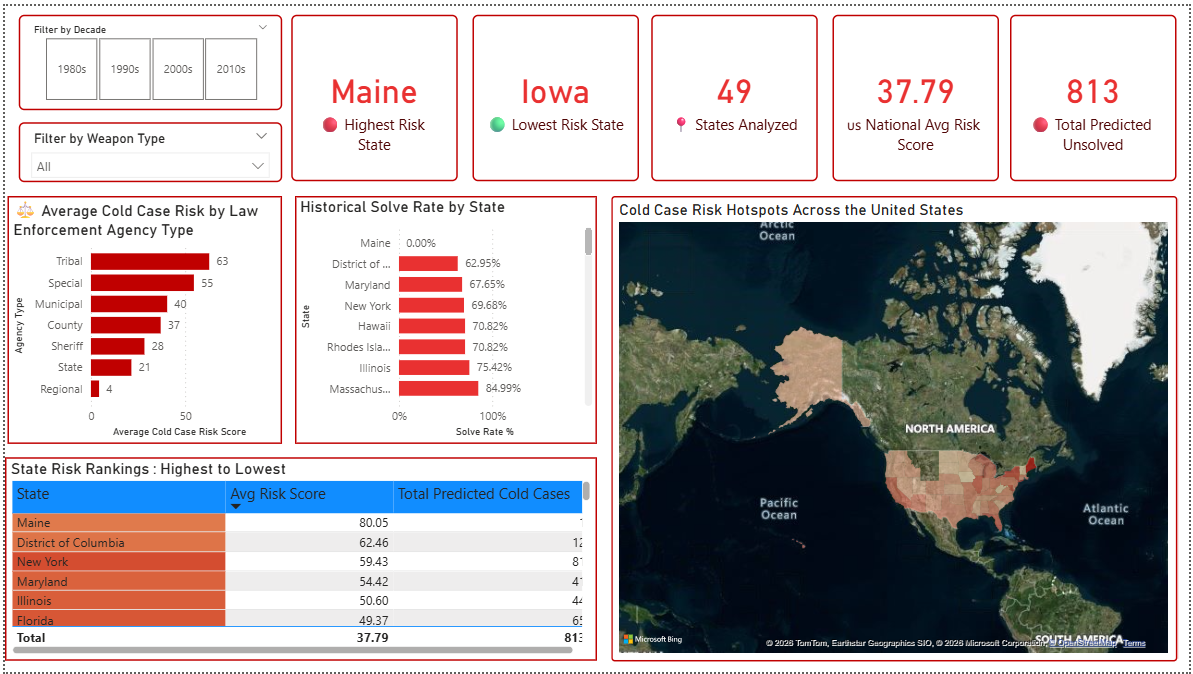

Layout of this report page (visuals, bound fields, positions):
{"tool":"powerbi","page":{"name":"Geographic Intelligence (Hotspots)","canvas":[1280,720],"ordinal":2},"visuals":[{"type":"filledMap","fields":{"Category":["final_portfolio_export.State"]},"box":[655,205,611.7,503.3],"z":0},{"type":"clusteredBarChart","title":"⚖️ Average Cold Case Risk by Law Enforcement Agency Type","fields":{"Category":["final_portfolio_export.Agency Grouped"],"Y":["Avg(final_portfolio_export.Cold_Case_Risk_Score)"]},"box":[3.3,205,296.7,268.3],"z":1000},{"type":"tableEx","title":"State Risk Rankings : Highest to Lowest","fields":{"Values":["final_portfolio_export.State","Avg(final_portfolio_export.Cold_Case_Risk_Score)","final_portfolio_export.Predicted Cold Cases"]},"box":[0,488.3,640,220],"z":1001},{"type":"clusteredBarChart","title":" Historical Solve Rate by State","fields":{"Category":["final_portfolio_export.State"],"Y":["final_portfolio_export.Solve Rate %"]},"box":[313.3,205,326.7,268.3],"z":1002},{"type":"card","fields":{"Values":["final_portfolio_export.Worst State"]},"box":[310,10,180,180],"z":1003},{"type":"card","fields":{"Values":["final_portfolio_export.Best State"]},"box":[505,10,180,180],"z":1004},{"type":"card","fields":{"Values":["final_portfolio_export.Total States"]},"box":[698.3,10,180,180],"z":1005},{"type":"card","fields":{"Values":["final_portfolio_export.National Avg Risk"]},"box":[895,10,180,180],"z":1006},{"type":"card","fields":{"Values":["final_portfolio_export.Total Unsolved"]},"box":[1086.7,10,180,180],"z":1007},{"type":"slicer","fields":{"Values":["final_portfolio_export.Decade"]},"box":[15,10,285,103.3],"z":1008},{"type":"slicer","fields":{"Values":["final_portfolio_export.Weapon Grouped"]},"box":[15,125,285,65],"z":1009}]}

Visuals, with their boxes in screenshot pixels (x1, y1, x2, y2), scaled from the page's 1280x720 canvas onto the 1193x674 screenshot:
filledMap - final_portfolio_export.State: 610, 192, 1181, 663
"⚖️ Average Cold Case Risk by Law Enforcement Agency Type" clusteredBarChart: 3, 192, 280, 443
"State Risk Rankings : Highest to Lowest" tableEx: 0, 457, 596, 663
" Historical Solve Rate by State" clusteredBarChart: 292, 192, 596, 443
card - final_portfolio_export.Worst State: 289, 9, 457, 178
card - final_portfolio_export.Best State: 471, 9, 638, 178
card - final_portfolio_export.Total States: 651, 9, 819, 178
card - final_portfolio_export.National Avg Risk: 834, 9, 1002, 178
card - final_portfolio_export.Total Unsolved: 1013, 9, 1181, 178
slicer - final_portfolio_export.Decade: 14, 9, 280, 106
slicer - final_portfolio_export.Weapon Grouped: 14, 117, 280, 178
